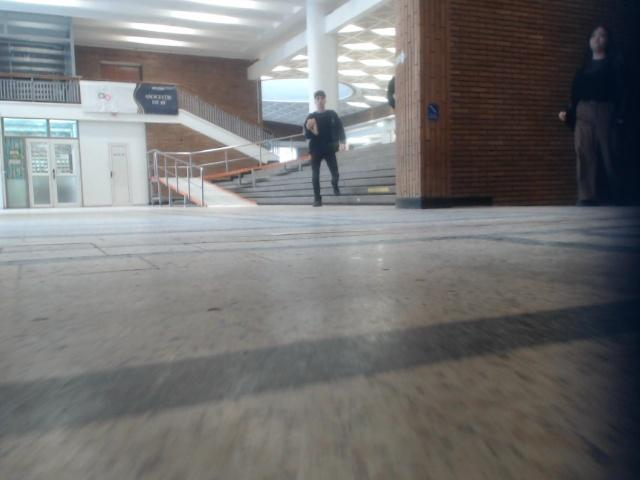rampUp: (160, 178, 255, 205)
ramps-railing: (147, 145, 204, 210)
